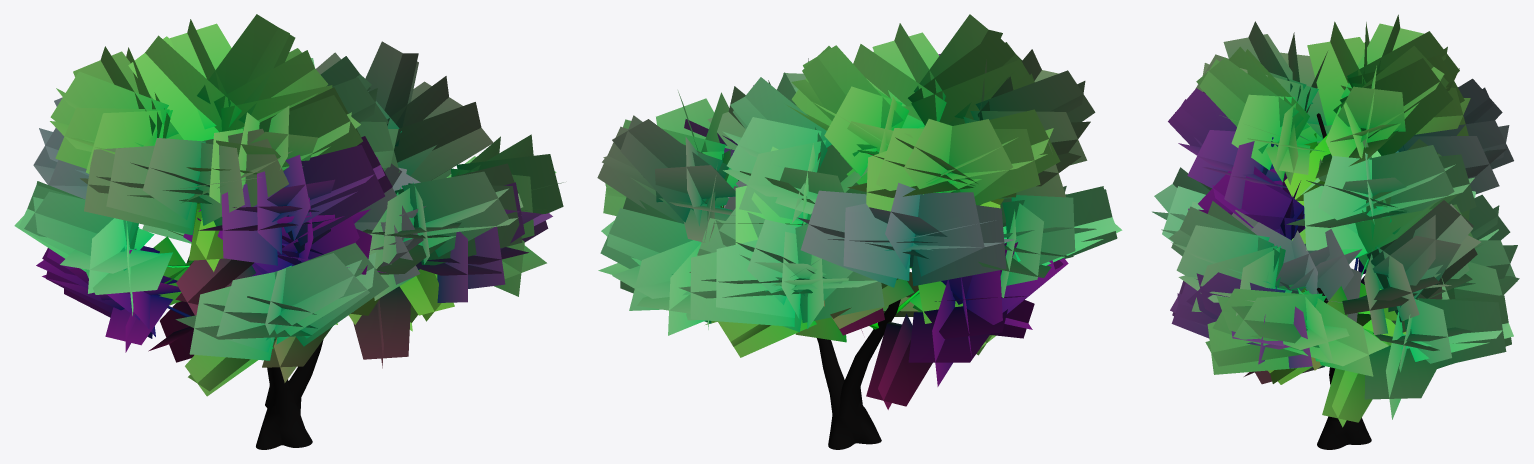
Rendered from Tree_3_5.fbx.
The picture shows the model from 3 angles, left to right: view 1: azimuth 30°, elevation 25°; view 2: azimuth 150°, elevation 25°; view 3: azimuth 270°, elevation 25°; orthographic projection. The views are drawn at different scales.
Parts seen in each view (by area): view 1: _5; view 2: _5; view 3: _5.
Boxes of the visible parts, x1=… form: _5: x1=14, y1=14, x2=563, y2=449; _5: x1=597, y1=14, x2=1122, y2=449; _5: x1=1152, y1=14, x2=1519, y2=449.
Bounding box in the file's own units: 2421 × 1910 × 1710.
